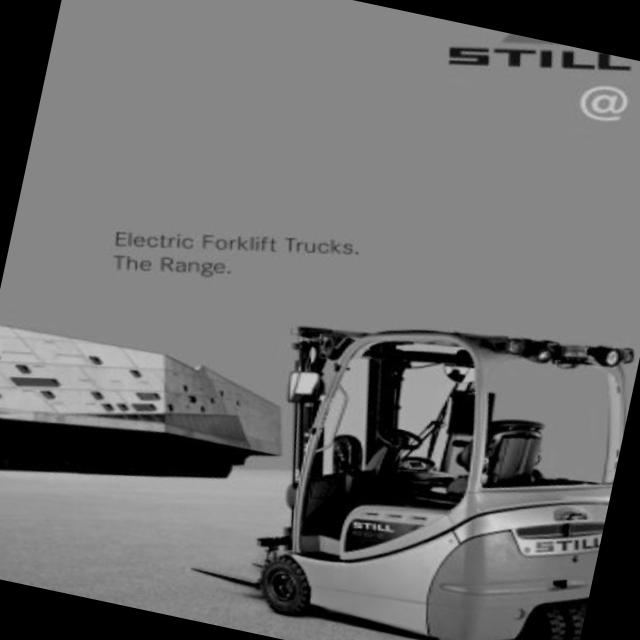forklift: (199, 237, 640, 640)
